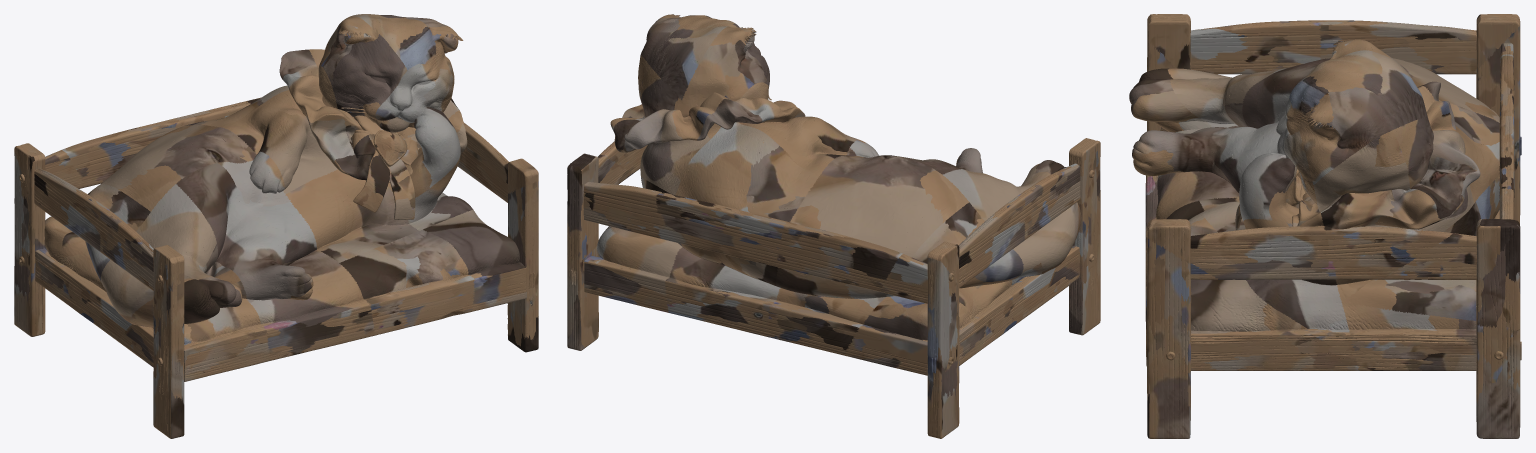
File: cat3.glb
3 renders of one model, left to right at view 1: azimuth 30°, elevation 25°; view 2: azimuth 150°, elevation 25°; view 3: azimuth 270°, elevation 25°, orthographic. The views are drawn at different scales.
Visible parts, largest first — view 1: geometry_0; view 2: geometry_0; view 3: geometry_0.
Boxes of the visible parts, bbox=[...] form: geometry_0: bbox=[14, 14, 538, 438]; geometry_0: bbox=[567, 14, 1100, 438]; geometry_0: bbox=[1129, 14, 1521, 438].
Size of the model in its own units: 0.2941 by 0.2131 by 0.2226.
1 material, 1 textured.
